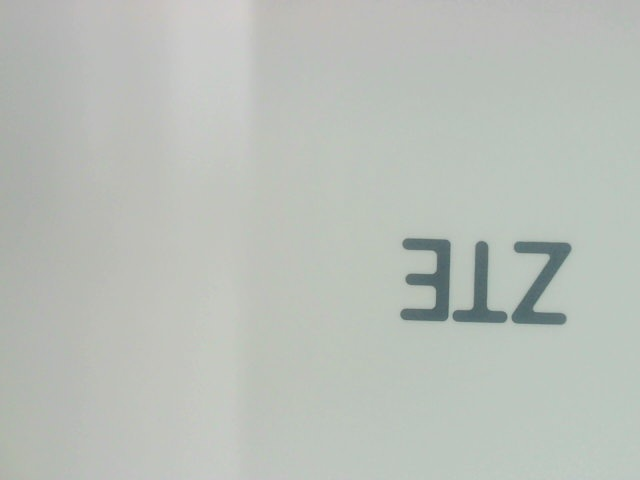AN_ZTELarge: (390, 226, 582, 333)
